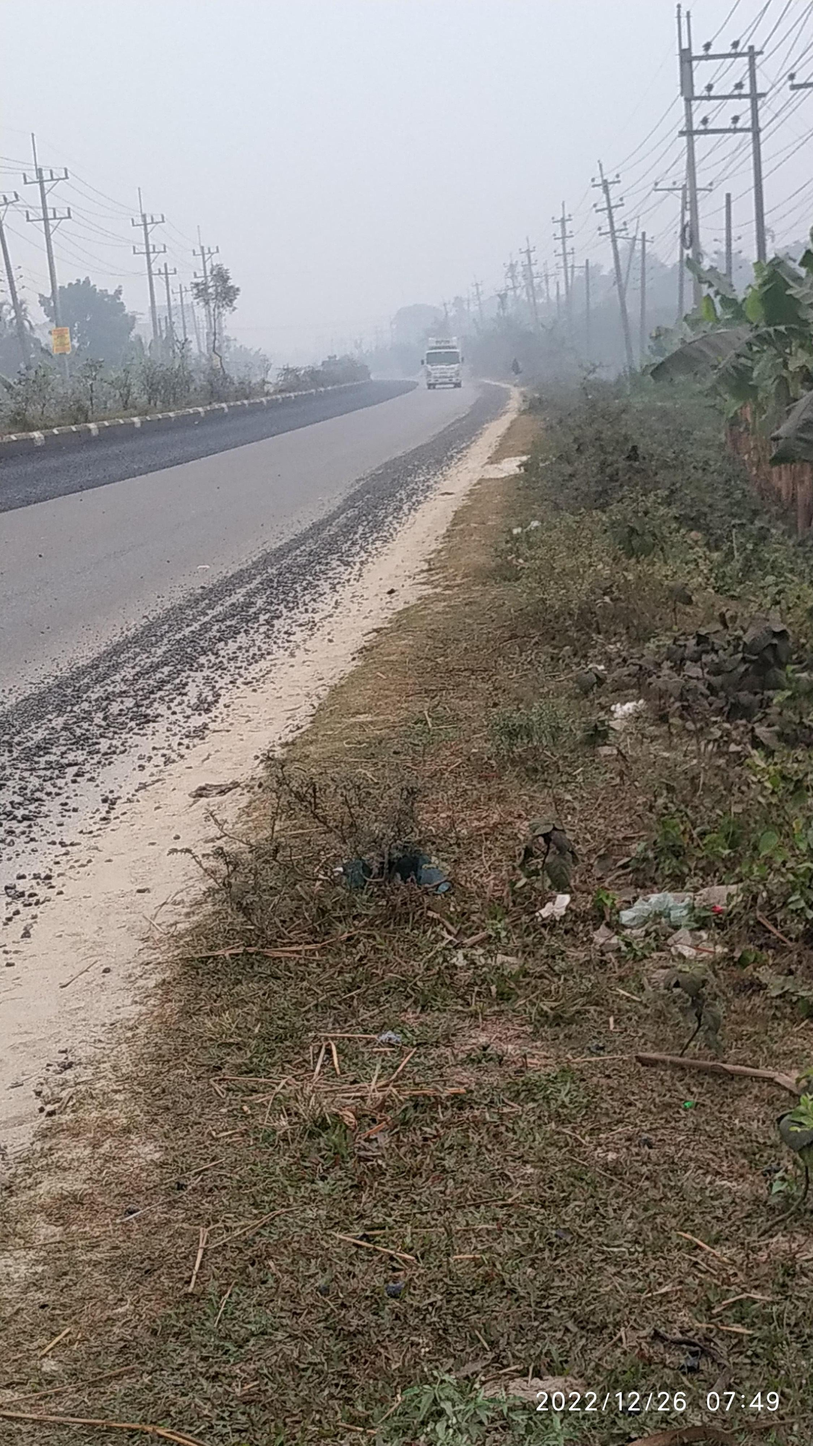Truck: (409, 321, 477, 411)
